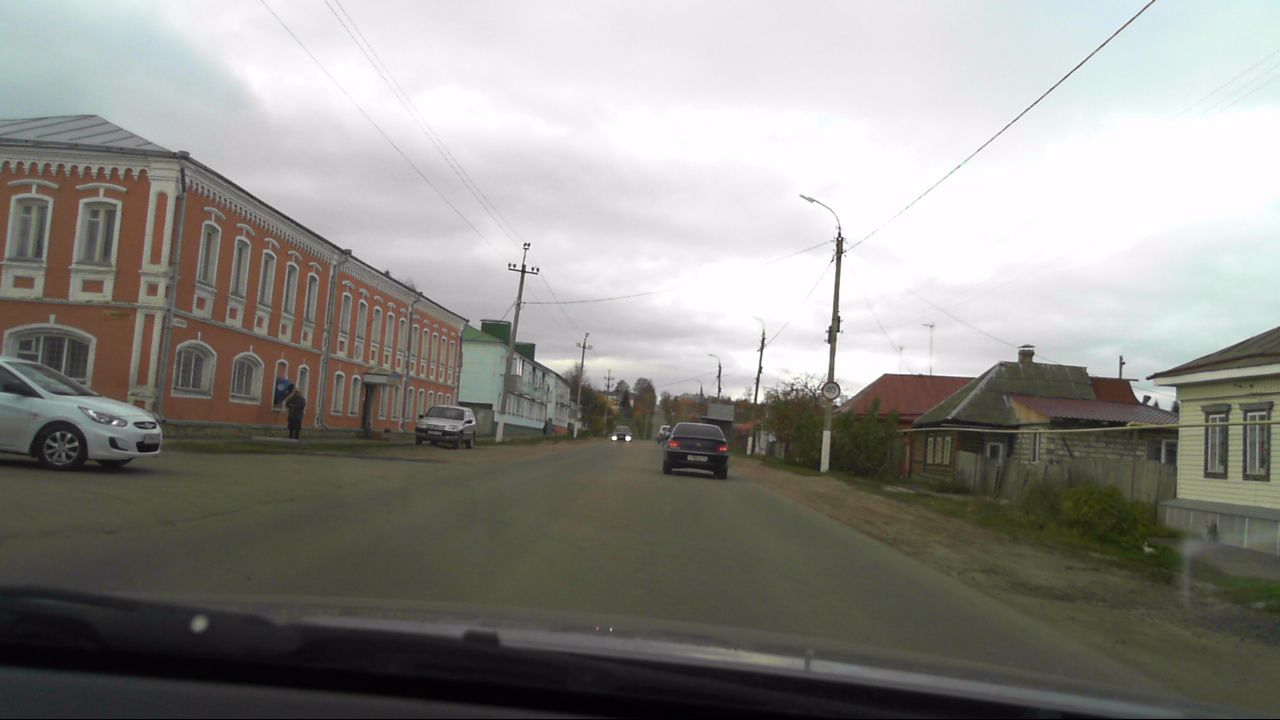speed_warning_40: (822, 380, 844, 402)
